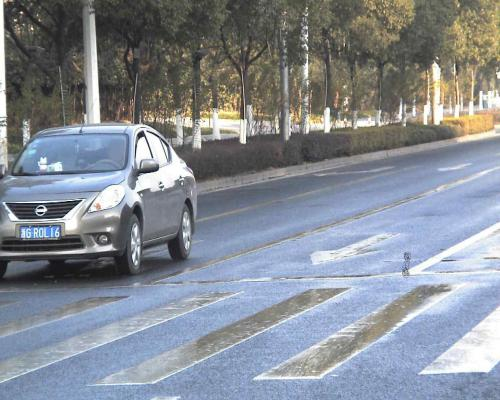Carplate: (12, 222, 63, 242)
